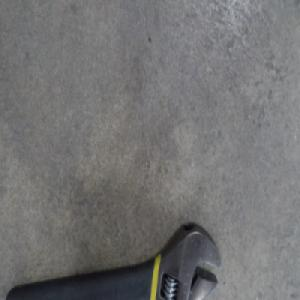AdjustableWrench: (8, 219, 225, 299)
